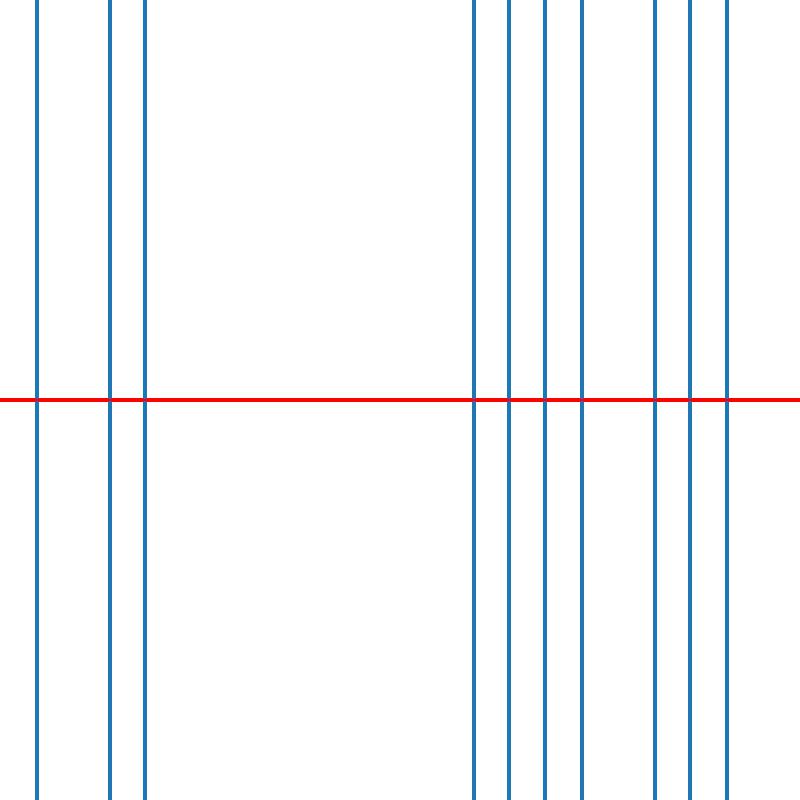root: (541, 396, 549, 404), (32, 396, 40, 404), (141, 396, 149, 404), (650, 396, 658, 404), (723, 396, 730, 404), (469, 396, 476, 404), (505, 396, 512, 404), (578, 396, 585, 404), (687, 396, 694, 404), (105, 396, 112, 404)
